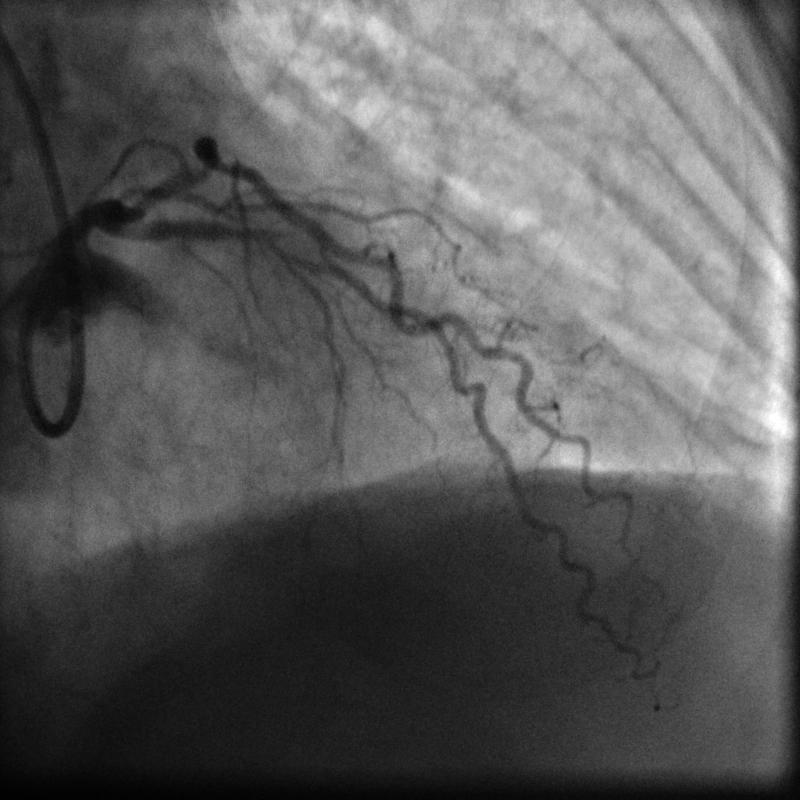Stenosis: (244, 216, 313, 275)
